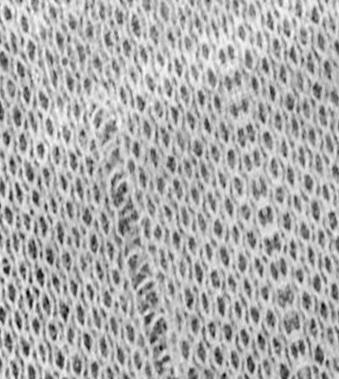slub: (83, 90, 182, 379)
